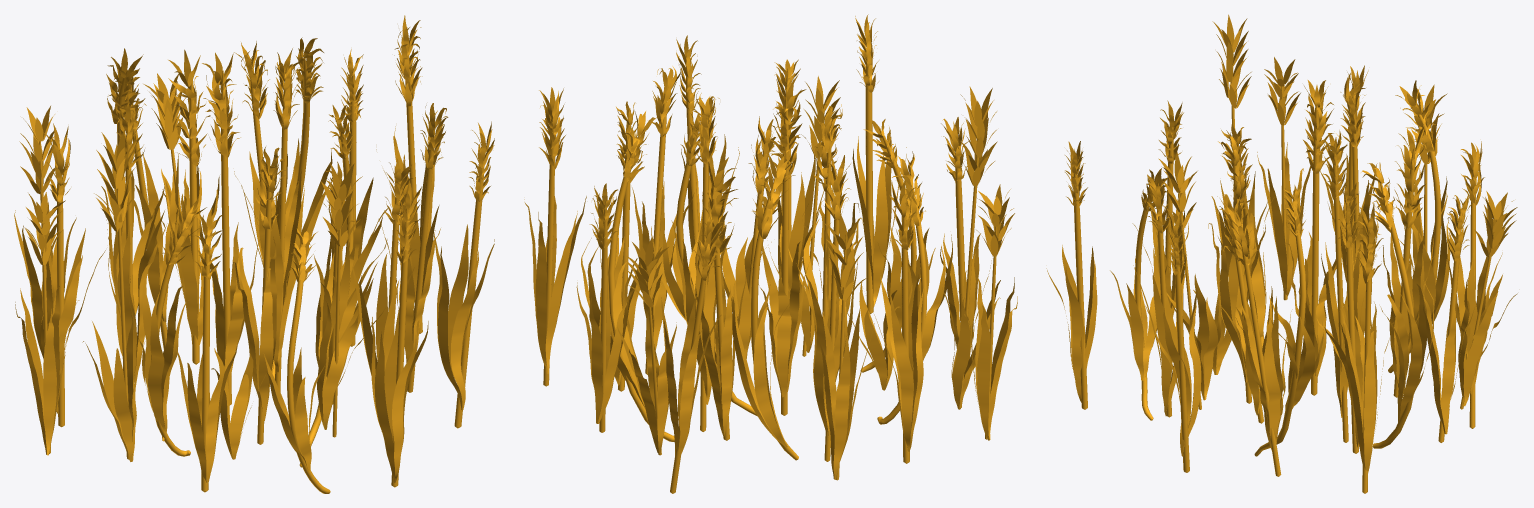
Rendered from sketch.dae.
3 renders of one model, left to right at view 1: azimuth 30°, elevation 25°; view 2: azimuth 150°, elevation 25°; view 3: azimuth 270°, elevation 25°, orthographic. The views are drawn at different scales.
Parts seen in each view (by area): view 1: node_9b1dea19_02ad_4250_8e98_a342d230b8df_mesh0, node_d9342983_e14d_4d06_acbf_b2797edeacc2_mesh0; view 2: node_9b1dea19_02ad_4250_8e98_a342d230b8df_mesh0, node_d9342983_e14d_4d06_acbf_b2797edeacc2_mesh0; view 3: node_9b1dea19_02ad_4250_8e98_a342d230b8df_mesh0, node_d9342983_e14d_4d06_acbf_b2797edeacc2_mesh0.
Part boxes in pixels (box(x1,y1,x2,y2)): node_9b1dea19_02ad_4250_8e98_a342d230b8df_mesh0: box(14, 15, 494, 483); node_d9342983_e14d_4d06_acbf_b2797edeacc2_mesh0: box(39, 50, 484, 493); node_9b1dea19_02ad_4250_8e98_a342d230b8df_mesh0: box(524, 14, 1017, 479); node_d9342983_e14d_4d06_acbf_b2797edeacc2_mesh0: box(543, 52, 997, 493); node_9b1dea19_02ad_4250_8e98_a342d230b8df_mesh0: box(1046, 14, 1517, 472); node_d9342983_e14d_4d06_acbf_b2797edeacc2_mesh0: box(1073, 43, 1497, 493).
Size of the model in its own units: 1.22 by 0.9921 by 1.19.
